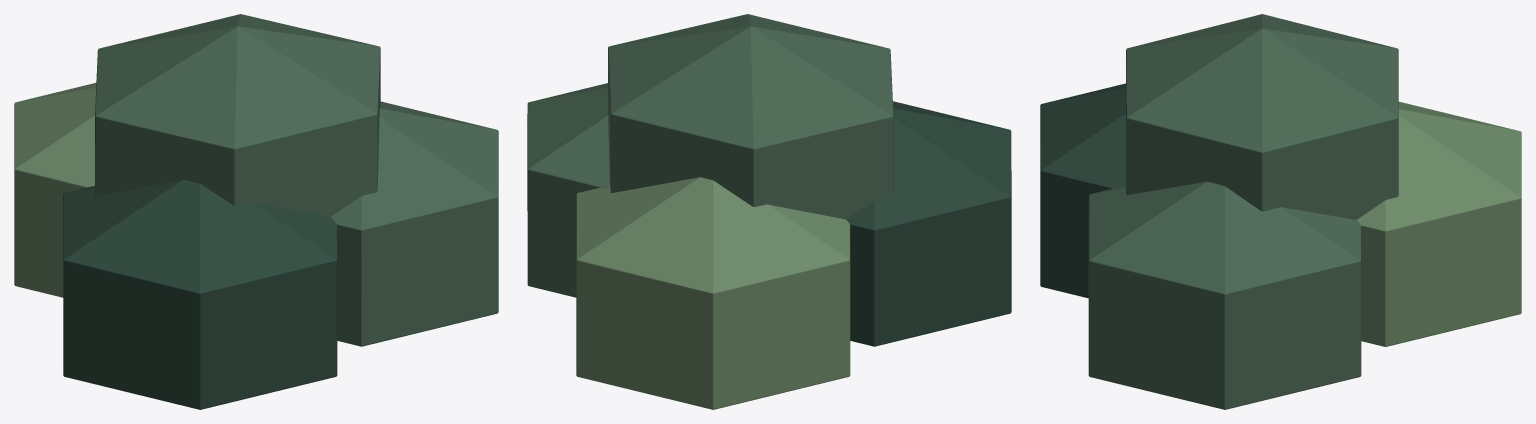
Rendered from low.shrub.a_low.glb.
3 renders of one model, left to right at view 1: azimuth 30°, elevation 25°; view 2: azimuth 150°, elevation 25°; view 3: azimuth 270°, elevation 25°, orthographic.
Bounding box in the file's own units: 0.6672 × 0.45 × 0.6098.
